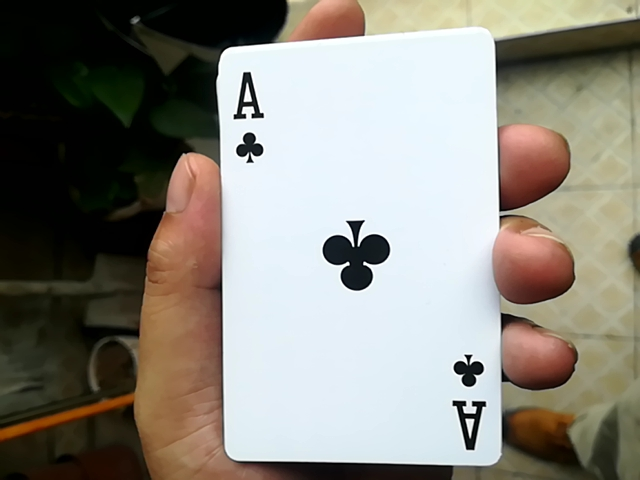mh a: (202, 22, 508, 465)
